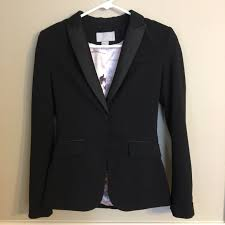F_W_suit jacket: (19, 8, 202, 221)
